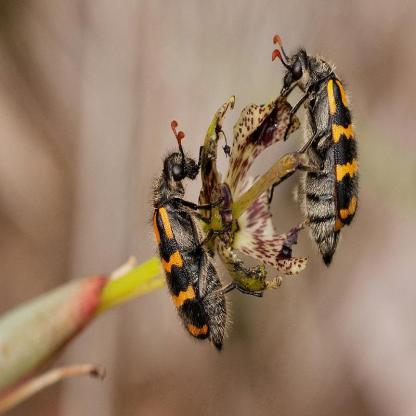beetle: (270, 38, 361, 267), (150, 123, 236, 350)
